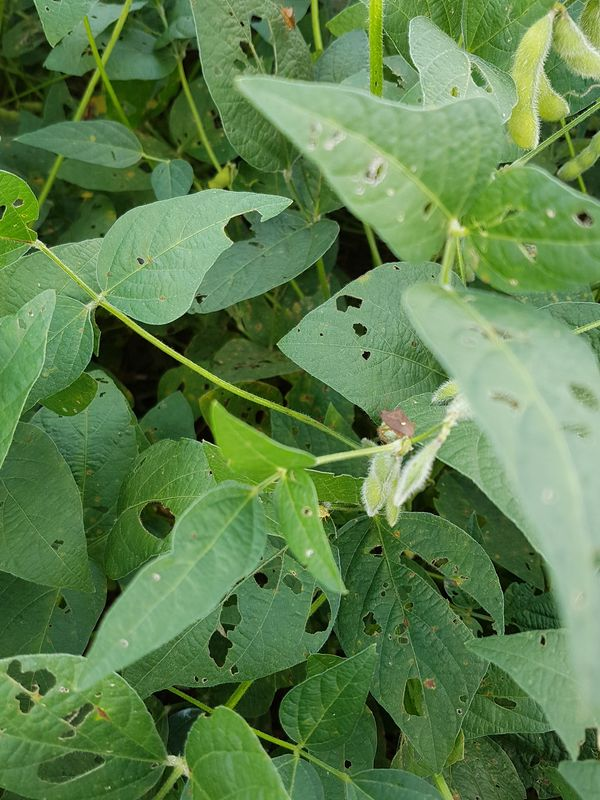Euschistus_heros_adulto: (371, 400, 425, 454), (270, 3, 304, 35)
